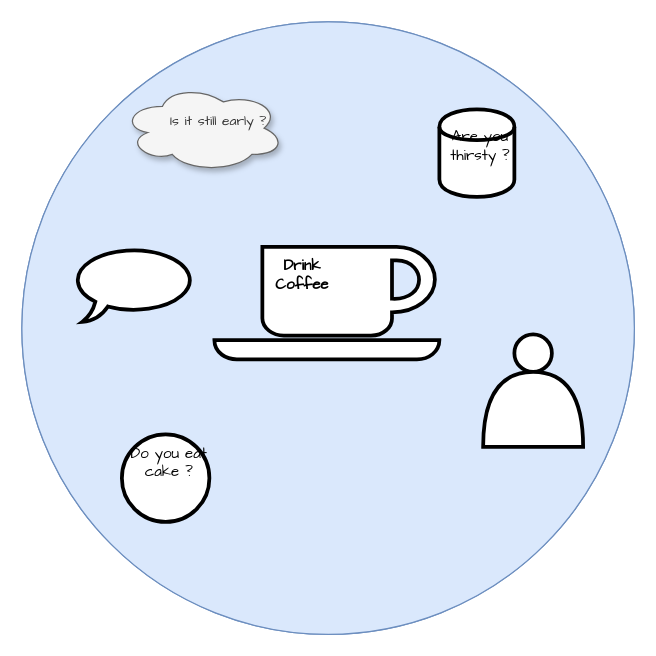
Some shapes in this 656 by 656 pixel diagram are drawn without their labels. The shapes that lost their labels are listed below. From the top down, each one's centre as x and y in pixels, then its label:
At point 133,283: "That's to bad !".
At point 532,408: "Do you have visitor".
